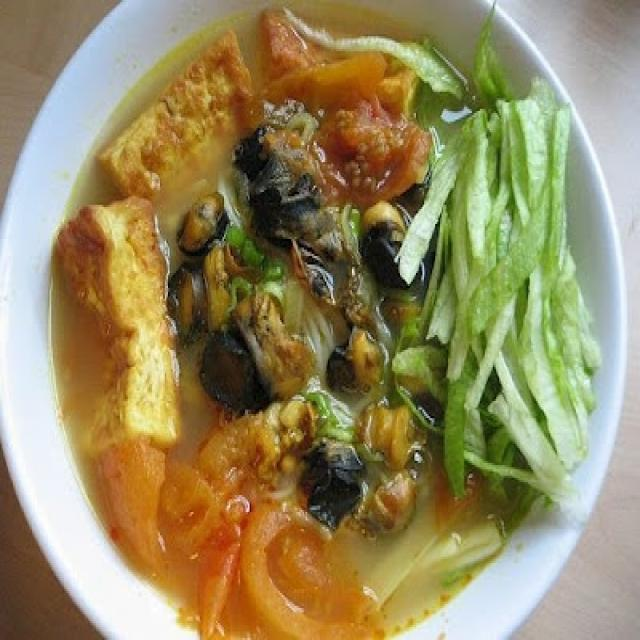面条主食: (21, 11, 608, 620)
